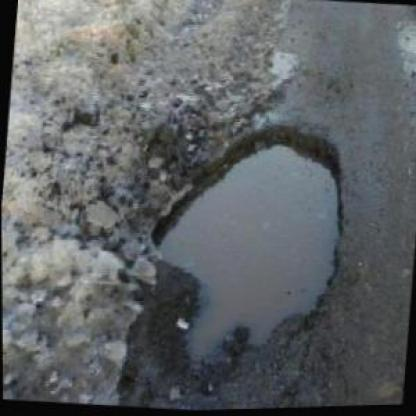pothole: (133, 111, 356, 376), (56, 107, 98, 151), (78, 192, 122, 230)
